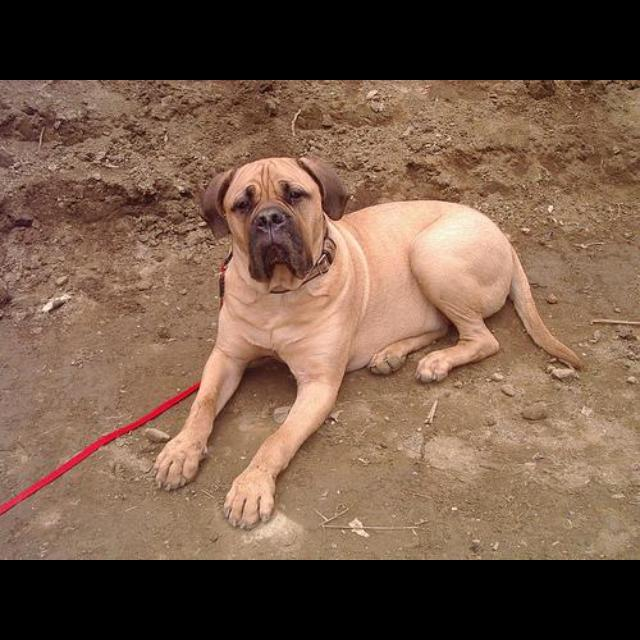bullmastiff: (146, 156, 585, 531)
